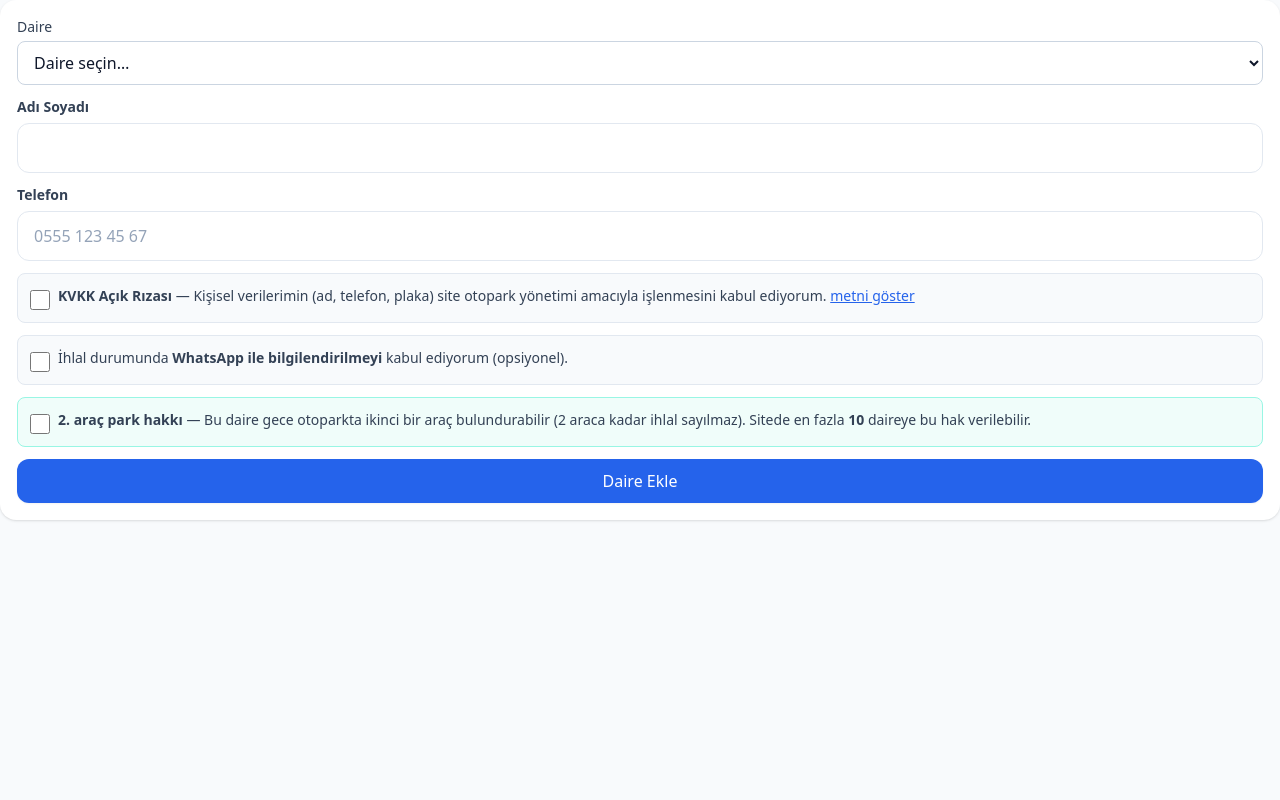
DaireForm › KVKK rızası olmadan submit reddedilir
Select "B5" in the dropdown at (640, 63), box [17,41,1263,85]
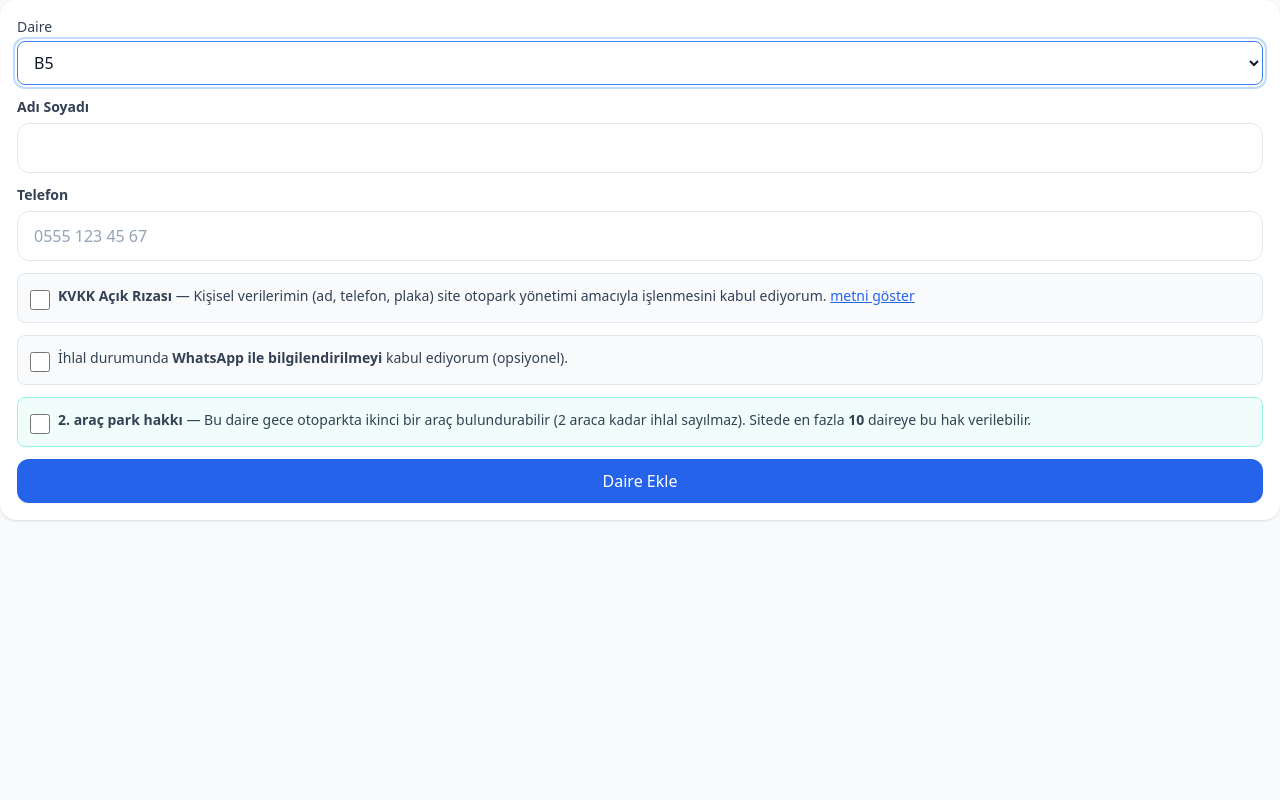
Type "Ali" into the field labelled "Adı Soyadı".
click(640, 148); type("Ali")  # box [17,123,1263,173]
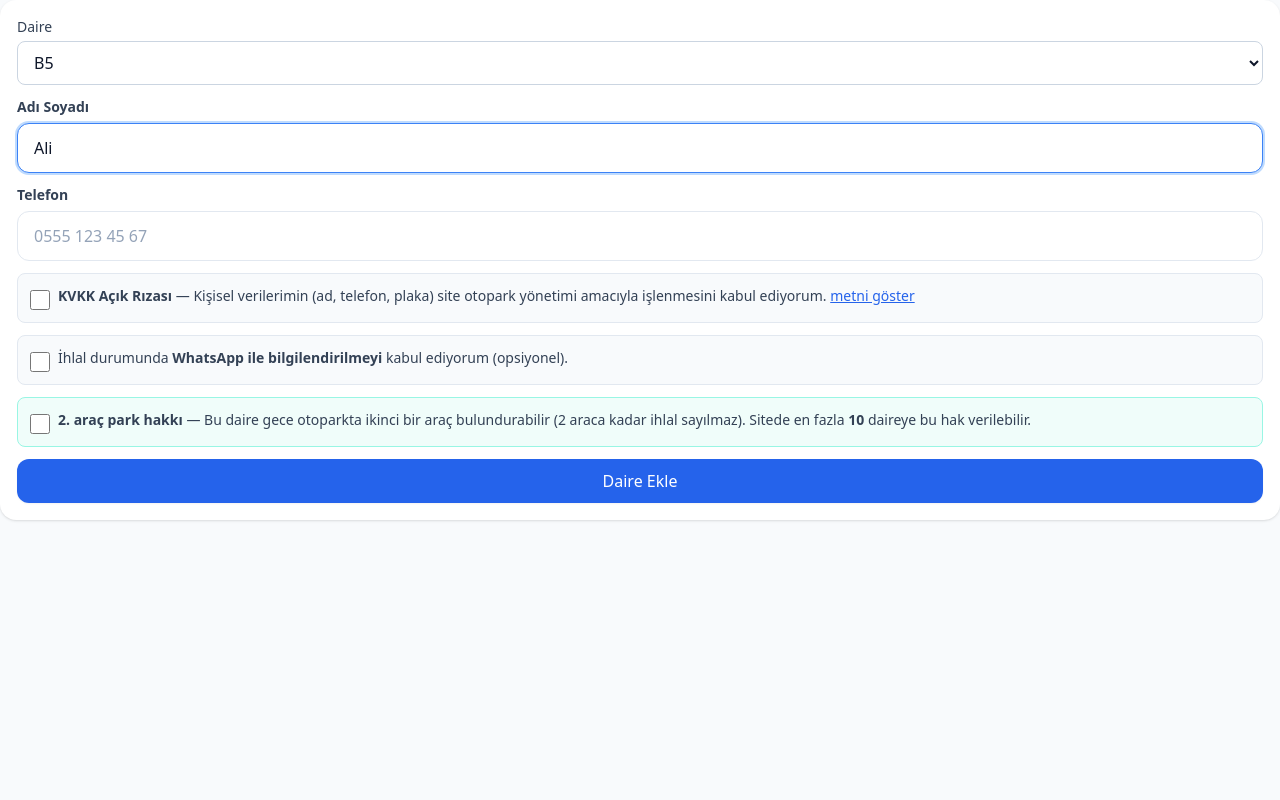
Type "05551234567" into the field labelled "Telefon".
click(640, 236); type("05551234567")  # box [17,211,1263,261]
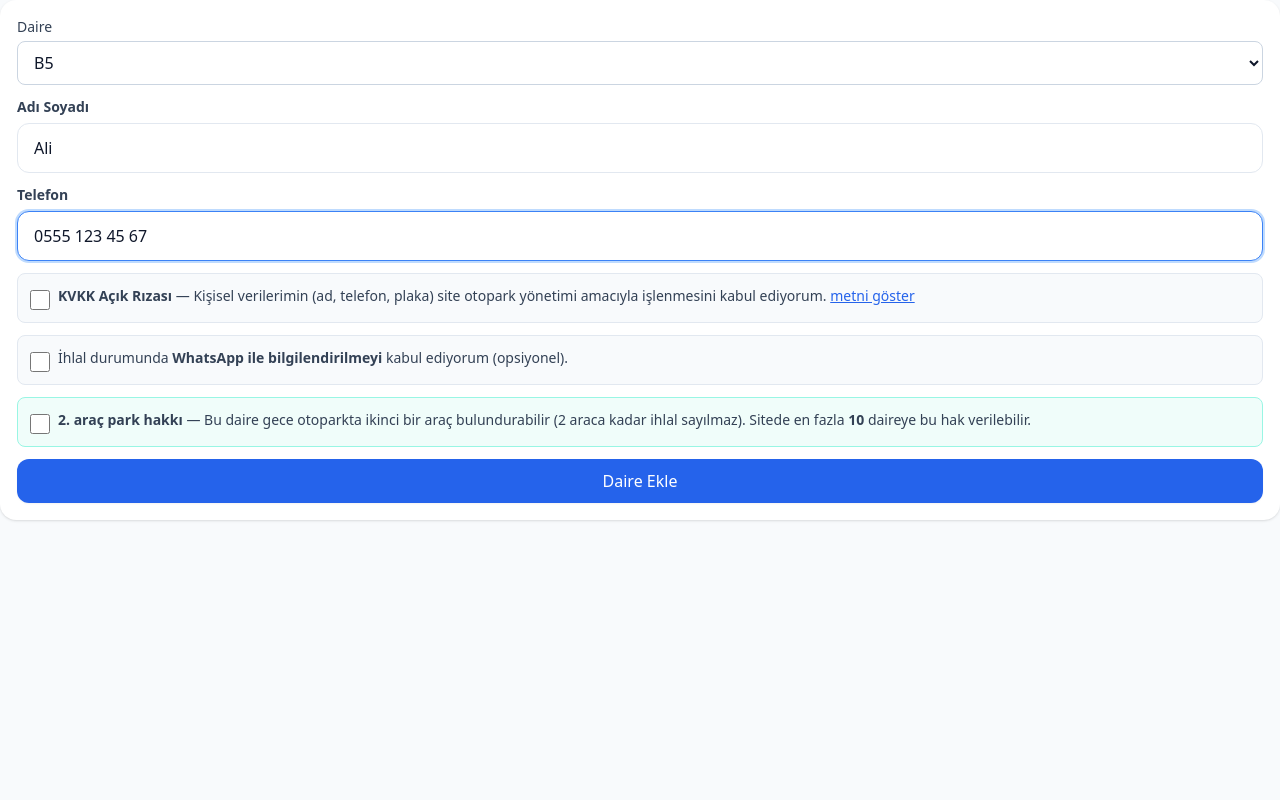
Click the button "Daire Ekle".
click(640, 481)  # box [17,459,1263,503]
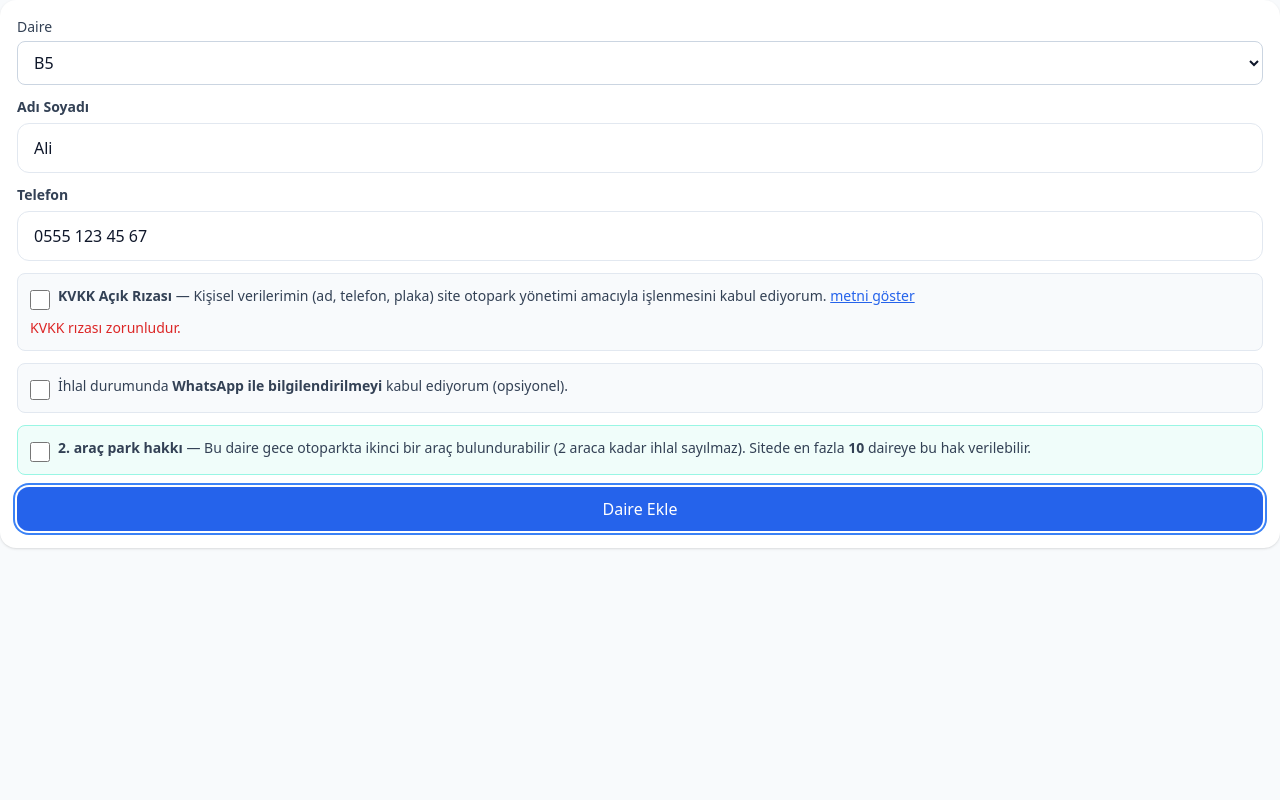
Expected: the text "KVKK rızası zorunludur." is shown, [30,318,181,337]
